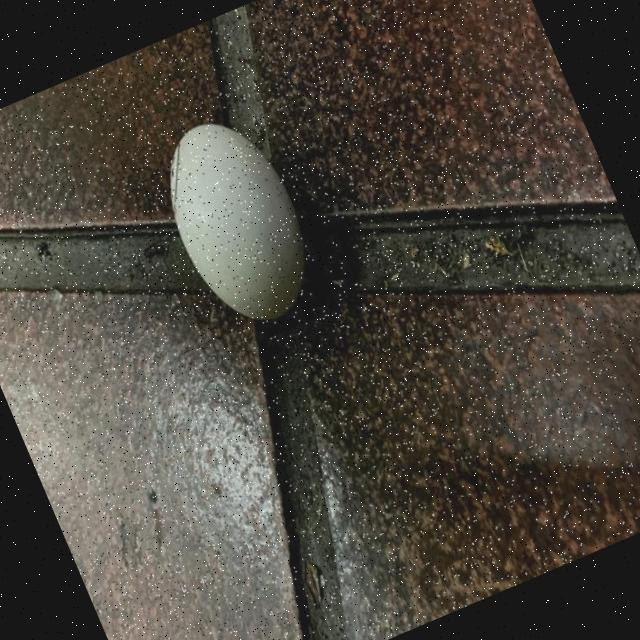ping-pong-ball: (137, 93, 339, 346)
